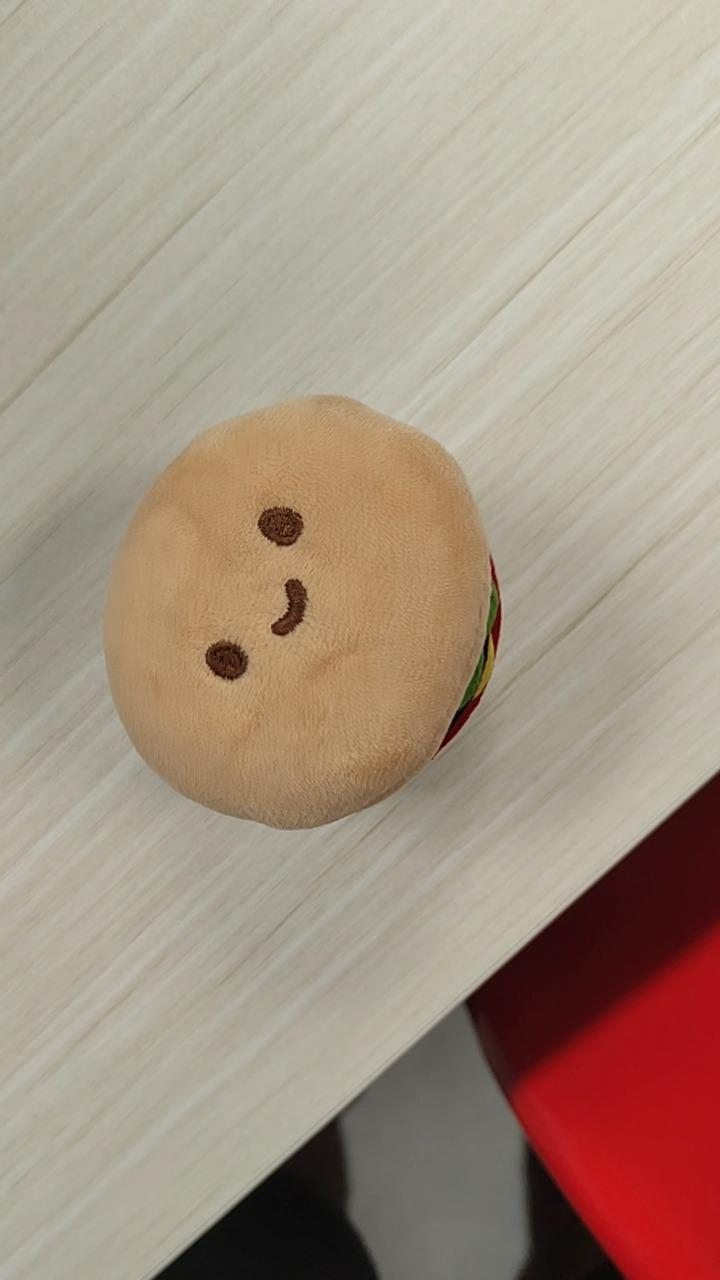hamburger: (101, 392, 503, 831)
